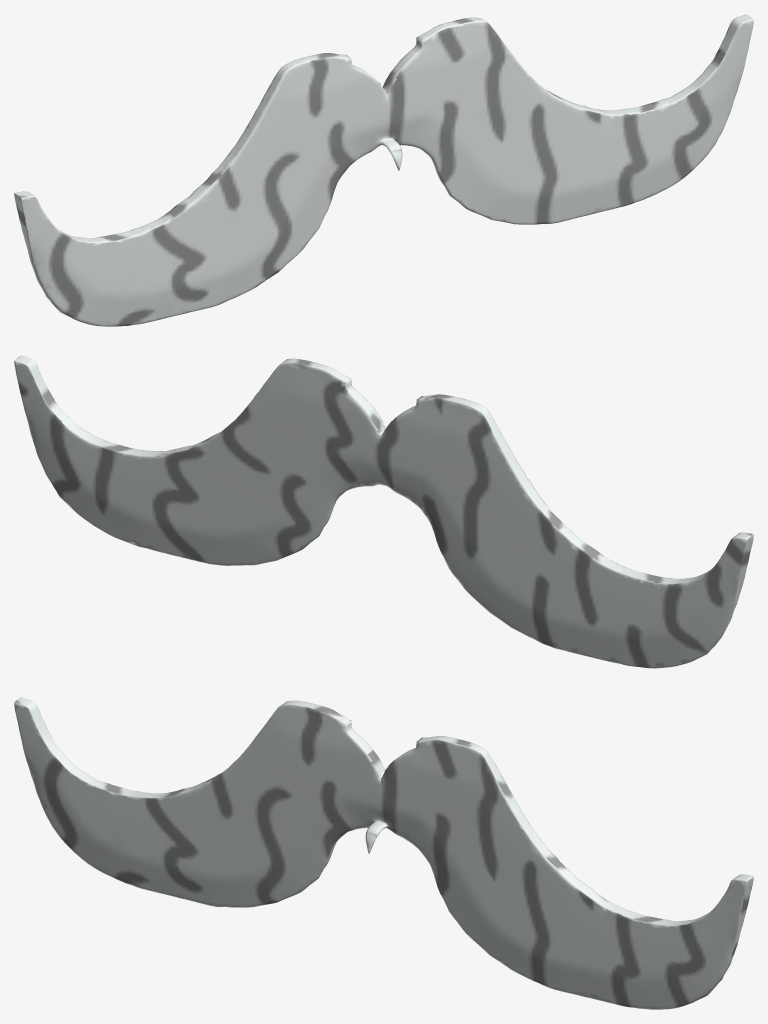
File: item-moustache.glb
3 renders of one model, top to bottom at view 1: azimuth 30°, elevation 25°; view 2: azimuth 150°, elevation 25°; view 3: azimuth 330°, elevation 25°, orthographic.
Bounding box in the file's own units: 0.019 × 0.00554 × 0.000877.
Materials: 1 (1 with a texture image).
